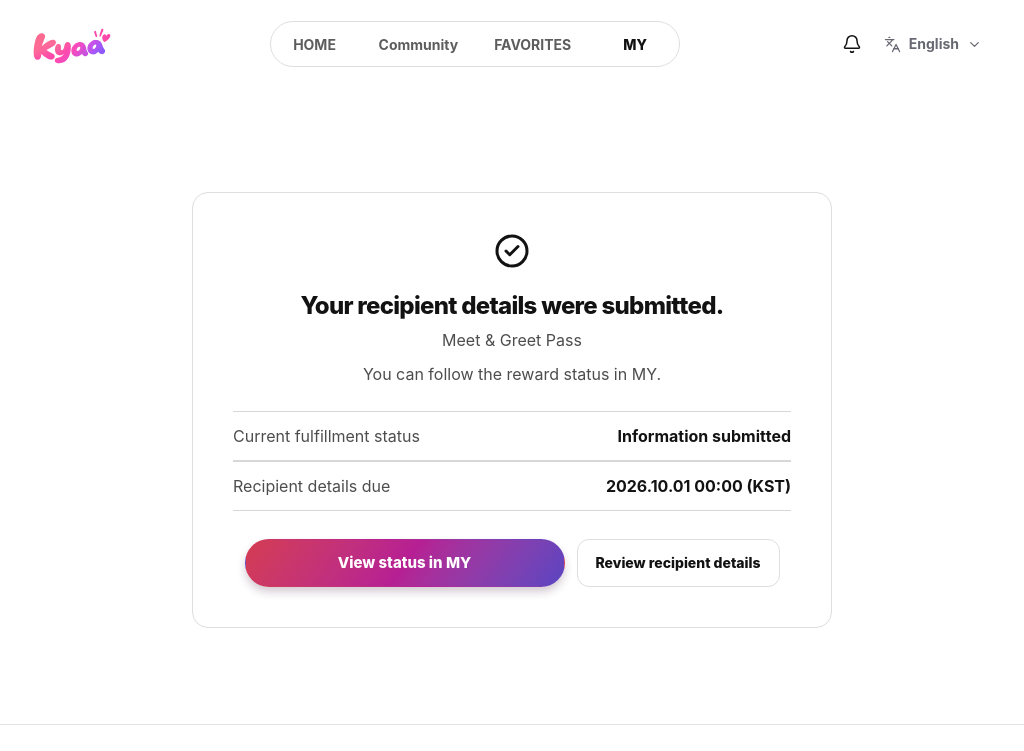
Scenario: Benefit recipient screen › reconciles an explicit edit after not_saved
This screenshot has width=1024, height=751.
Click the button "Review recipient details": (678, 563) [576, 539, 780, 587]
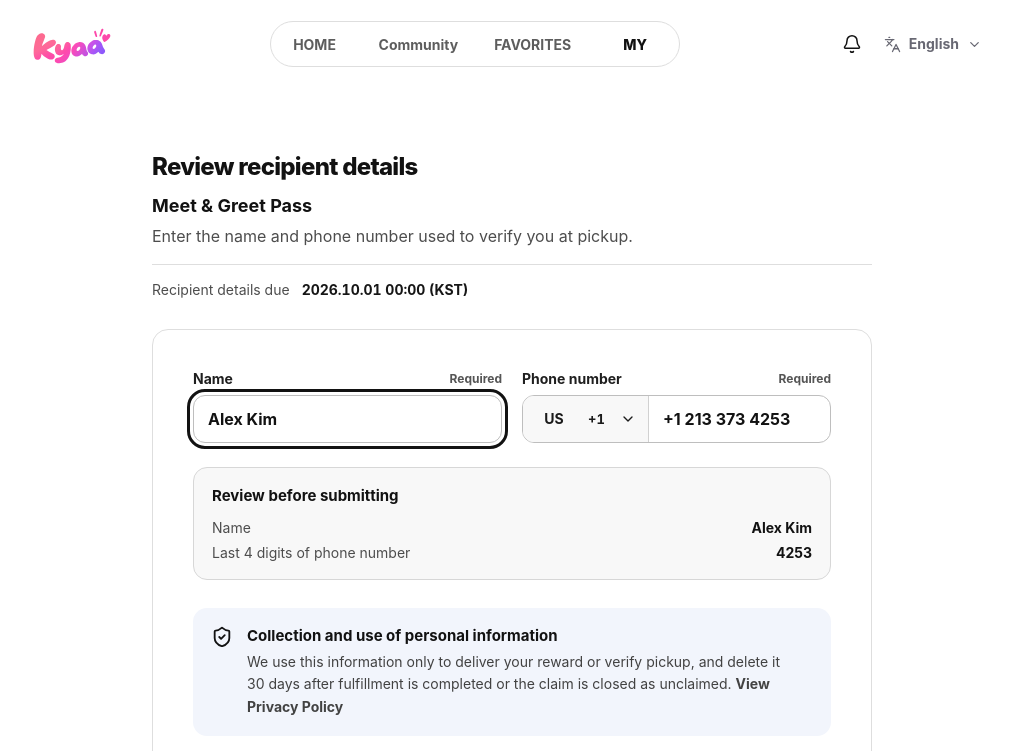
Replace the text in the field labelled "Name Required" with "Alex Lee": (348, 419) [193, 395, 502, 443]
(page scrolled)
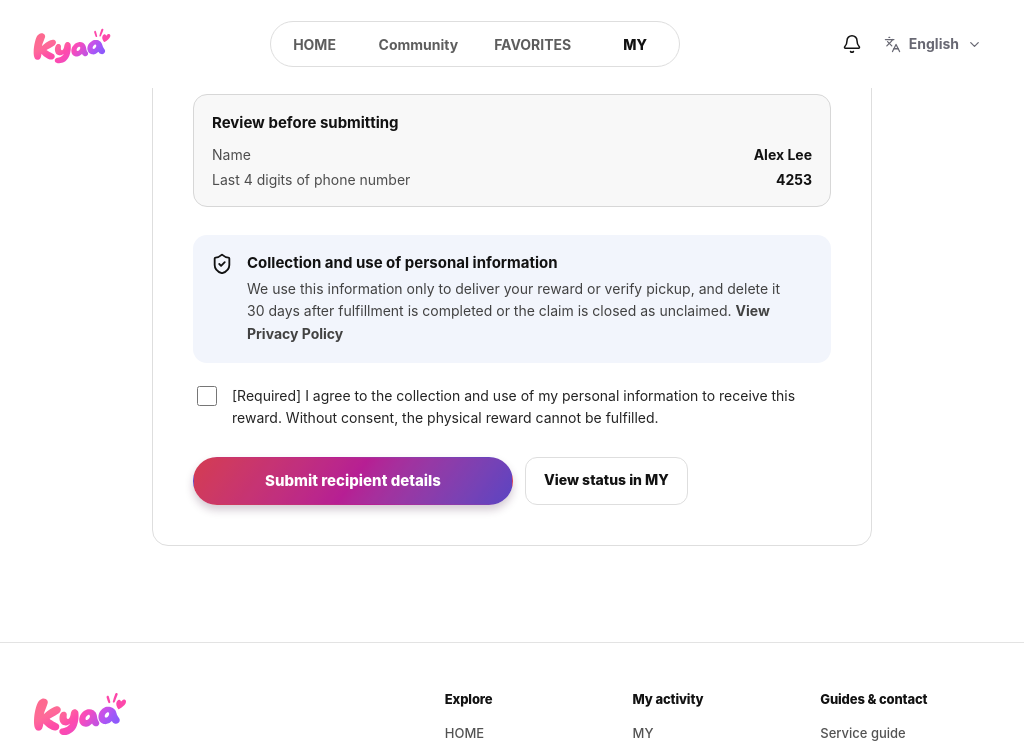
Click the checkbox: (207, 396) [197, 386, 217, 406]
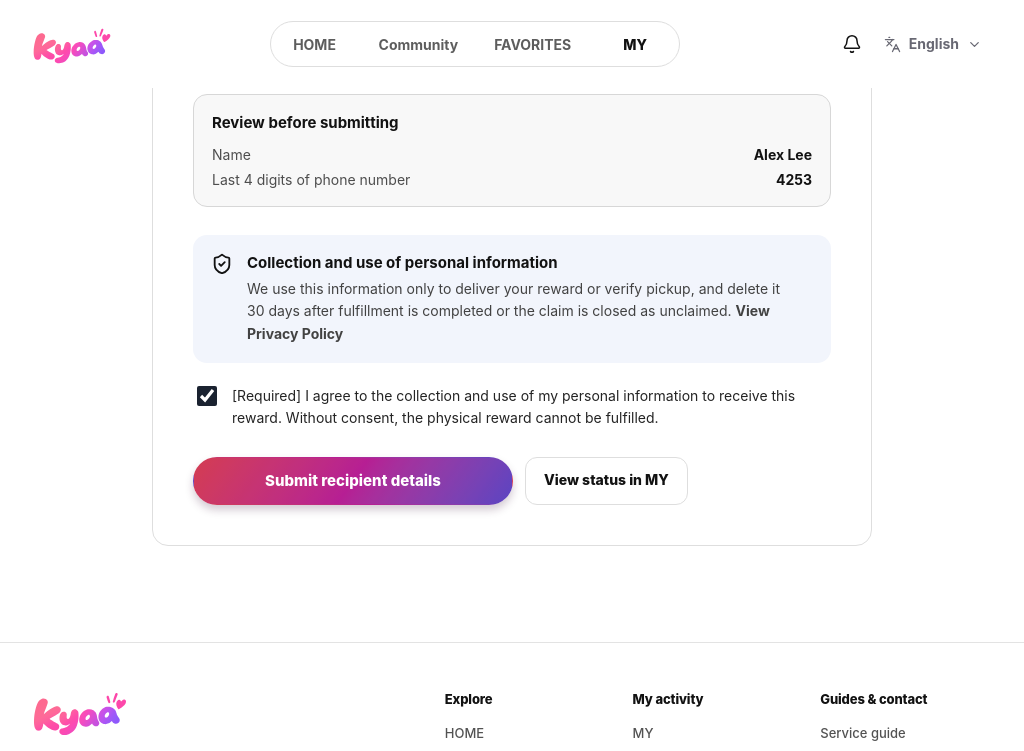
Click the button "Submit recipient details": (353, 480) [193, 456, 513, 504]
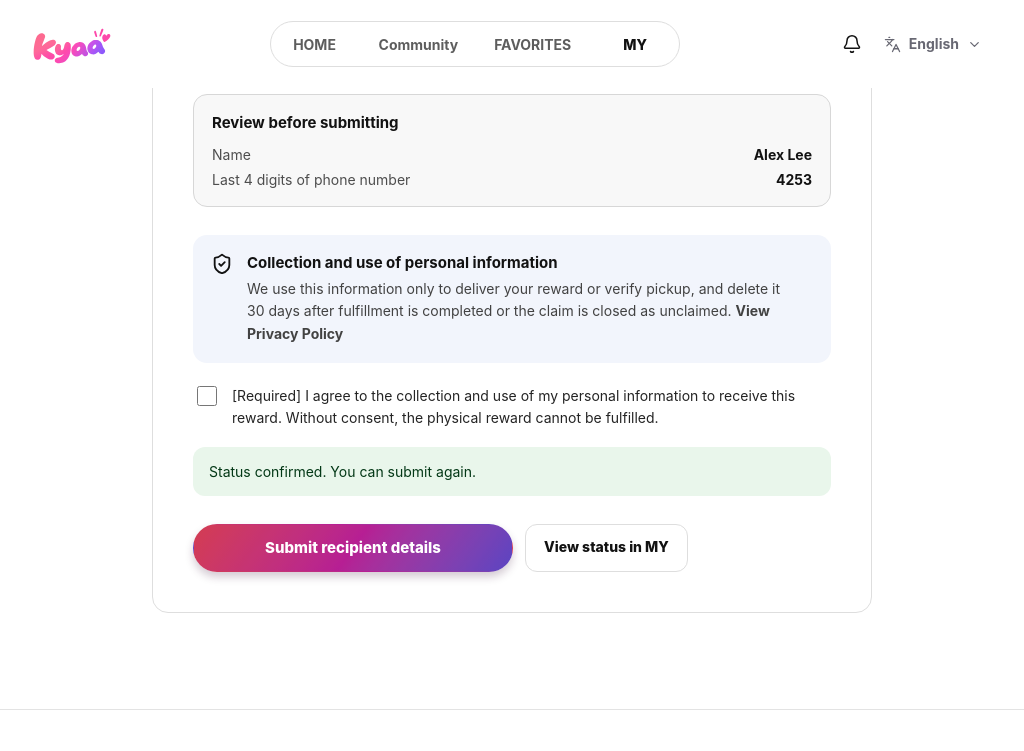
Check: the heading "Your recipient details were submitted." is not shown
Check: the checkbox is not checked, box [197, 386, 217, 406]
Check: the text "Status confirmed. You can submit again." is shown, box [193, 446, 831, 496]
